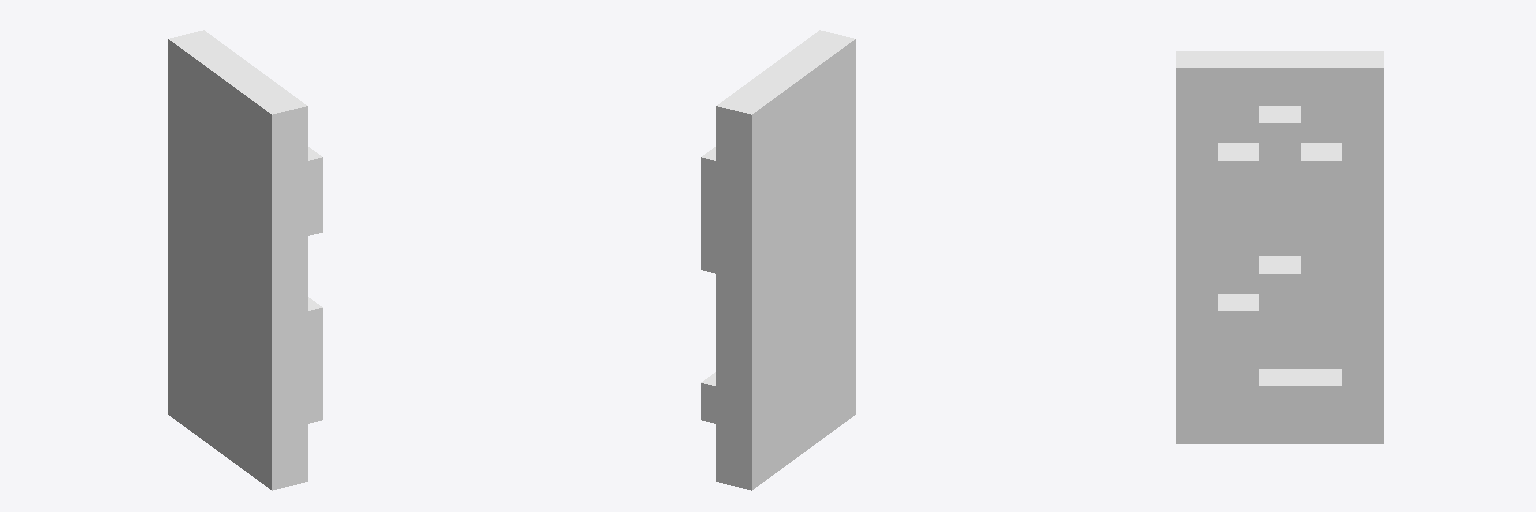
File: number_plate_2.obj
3 views of the same model, side by side, from view 1: azimuth 30°, elevation 25°; view 2: azimuth 150°, elevation 25°; view 3: azimuth 270°, elevation 25° (orthographic).
Visible parts, largest first — view 1: number_plate_2; view 2: number_plate_2; view 3: number_plate_2.
Part boxes in pixels (x1,y1,x2,y2): number_plate_2: (168, 30, 322, 490); number_plate_2: (701, 30, 855, 490); number_plate_2: (1176, 51, 1383, 443).
Bounding box in the file's own units: 2 × 10 × 5.